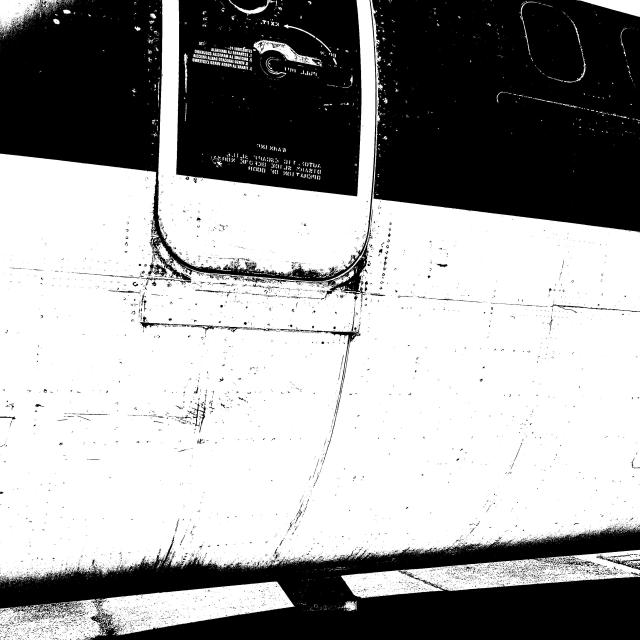Rupture: (558, 305, 582, 324)
